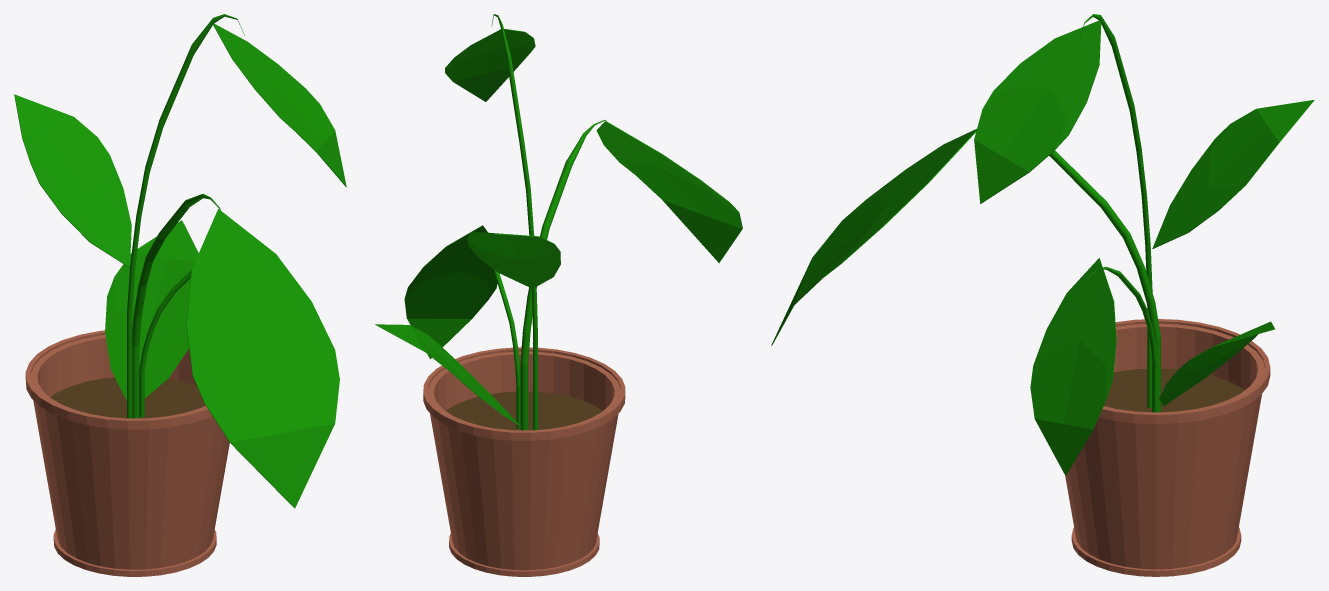
Rendered from potted_plant.fbx.
3 views of the same model, side by side, from view 1: azimuth 30°, elevation 25°; view 2: azimuth 150°, elevation 25°; view 3: azimuth 270°, elevation 25° (orthographic). The views are drawn at different scales.
Visible parts, largest first — view 1: Cube.004; view 2: Cube.004; view 3: Cube.004.
Boxes of the visible parts, x1=… form: Cube.004: x1=14, y1=14, x2=346, y2=576; Cube.004: x1=375, y1=14, x2=742, y2=576; Cube.004: x1=771, y1=14, x2=1314, y2=576.
Bounding box in the file's own units: 2.78 × 5.65 × 4.99.
